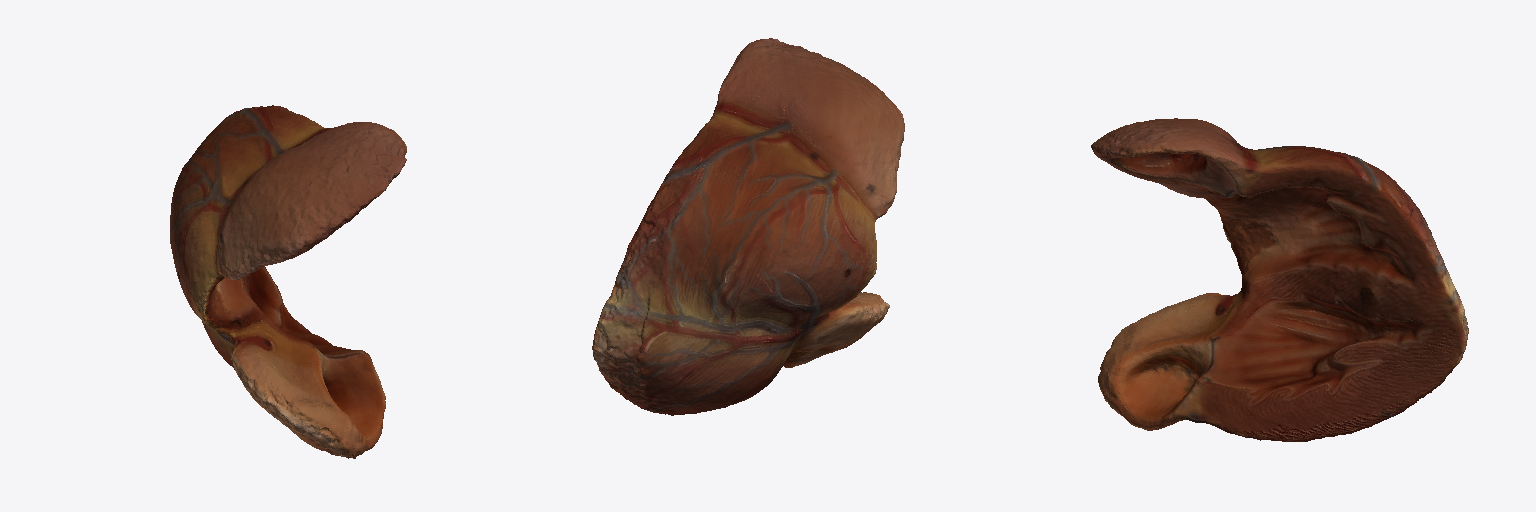
The picture shows the model from 3 angles: view 1: azimuth 30°, elevation 25°; view 2: azimuth 150°, elevation 25°; view 3: azimuth 270°, elevation 25°; orthographic projection.
Bounding box in the file's own units: 1.98 × 3.4 × 3.84.
1 materials, 1 textured.